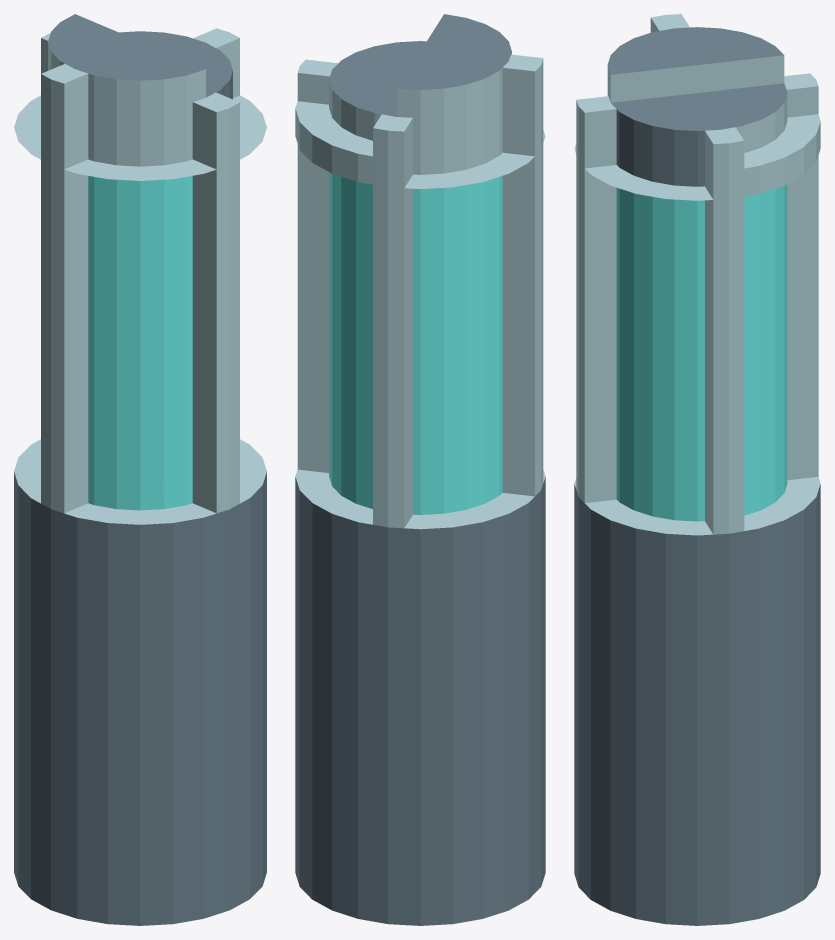
Rendered from flask 01.fbx.
The picture shows the model from 3 angles, left to right: view 1: azimuth 30°, elevation 25°; view 2: azimuth 150°, elevation 25°; view 3: azimuth 270°, elevation 25°; orthographic projection. The views are drawn at different scales.
Parts seen in each view (by area): view 1: flask 01; view 2: flask 01; view 3: flask 01.
Part boxes in pixels (x1,y1,x2,y2): flask 01: [14, 14, 266, 925]; flask 01: [295, 14, 545, 925]; flask 01: [574, 14, 820, 925].
Size of the model in its own units: 4 by 14.5 by 4.
